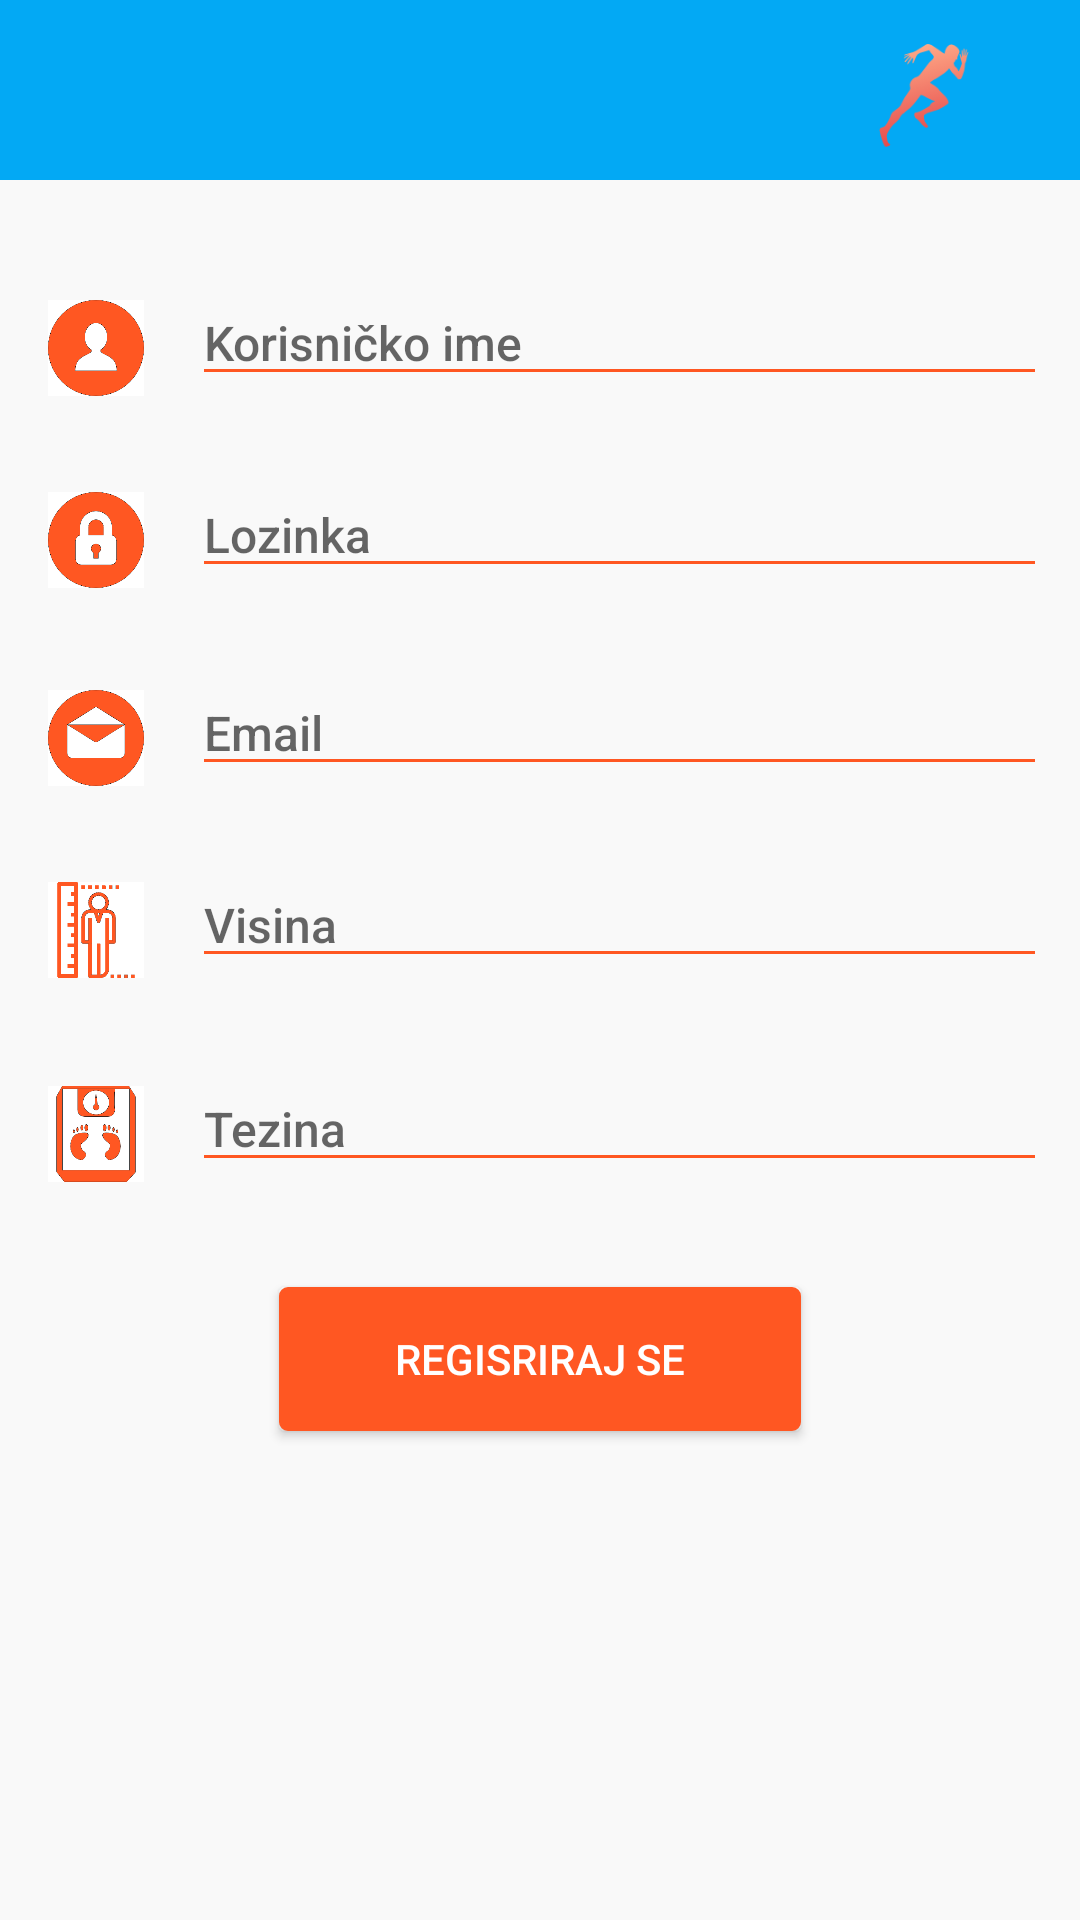

Screen size 1080px x 1920px. Icon name, then its box in pixels as (x1, y1, x2, y2):
password: (48, 492, 144, 588)
user: (48, 300, 144, 396)
